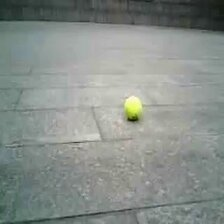tennis: (123, 95, 143, 119)
